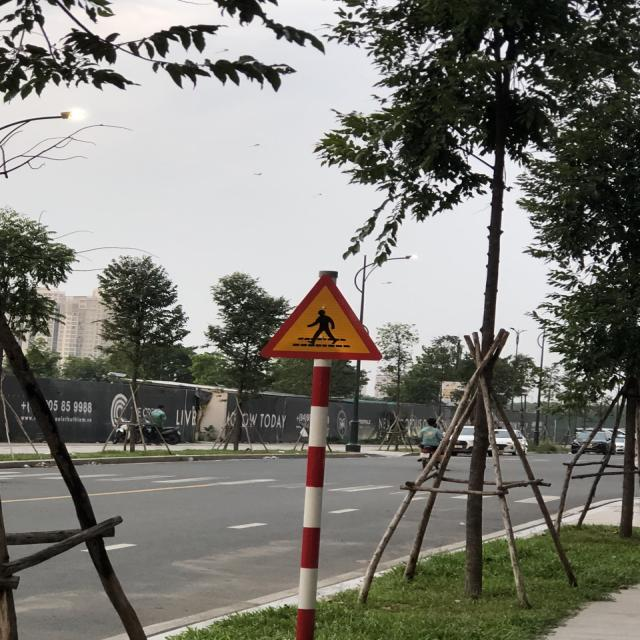Bien bao duong nguoi di bo cat ngang: (250, 264, 398, 375)
